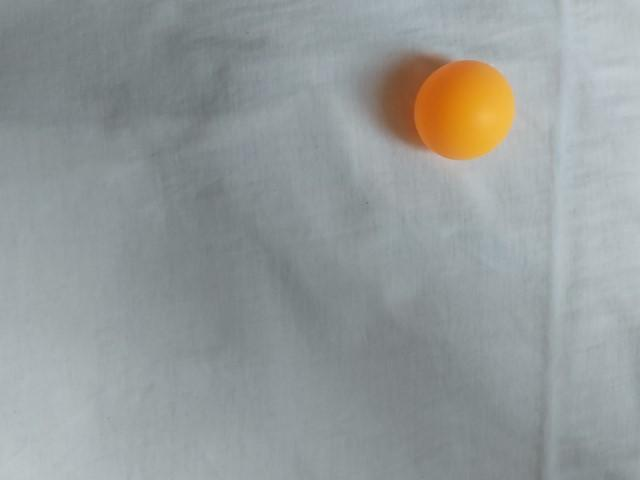oball: (117, 312, 238, 429)
